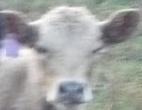muzzles: (50, 79, 86, 108)
